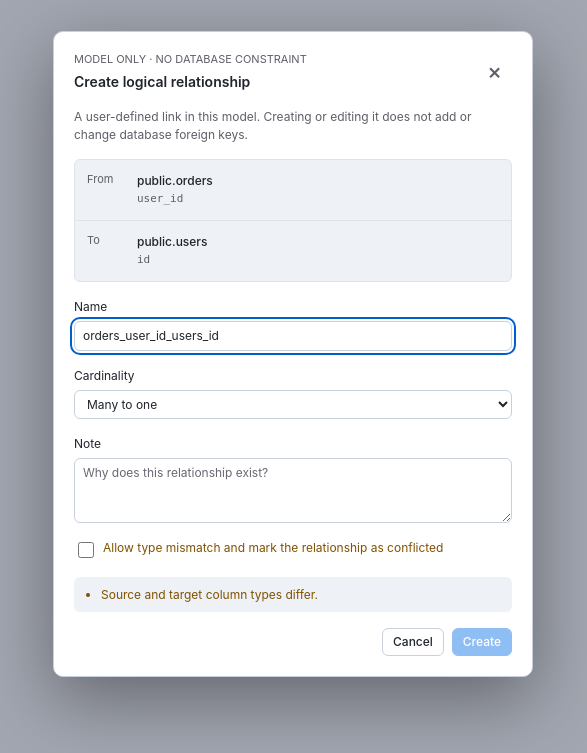
Test: RelationshipCreatePopover › requires explicit confirmation for a type mismatch
The image size is (587, 753).
Expected: the list item "Source and target column types differ." is shown, [101,586,318,602]
Expected: the button "Create" is disabled, [452,628,512,656]
Click the checkbox labelled "Allow type mismatch and mark the relationship as conflicted".
click(86, 550)  # box [78,542,94,558]
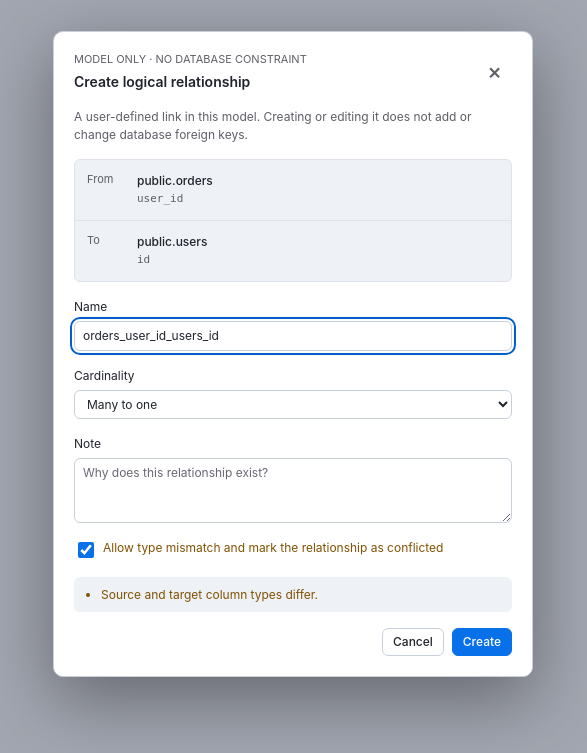
Now the button "Create" is enabled, box [452,628,512,656]
